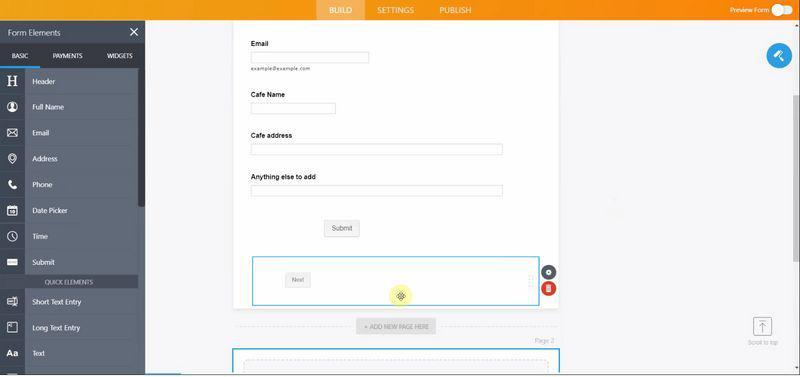button: (27, 121, 139, 149), (27, 314, 138, 342), (26, 341, 138, 368), (26, 69, 140, 95), (27, 174, 138, 200), (27, 250, 140, 275), (27, 200, 139, 225), (27, 225, 139, 250), (27, 289, 139, 314), (26, 96, 139, 120), (26, 150, 139, 174), (358, 319, 437, 337), (367, 1, 426, 21), (426, 1, 484, 21), (318, 1, 367, 21), (326, 220, 361, 238), (286, 273, 312, 290)
icon: (766, 43, 793, 71), (754, 317, 772, 338), (542, 265, 558, 282), (542, 282, 558, 298), (7, 74, 19, 90), (7, 230, 20, 244), (7, 322, 20, 335), (7, 205, 20, 218), (7, 101, 20, 114), (7, 297, 20, 309), (7, 257, 20, 269), (7, 127, 20, 139), (6, 348, 21, 358), (8, 180, 20, 192), (8, 154, 19, 166)
input: (251, 185, 504, 198), (251, 144, 504, 156), (252, 53, 370, 65), (252, 103, 337, 116)
label: (250, 172, 319, 182), (251, 132, 294, 141), (251, 91, 288, 100), (252, 40, 270, 48)
